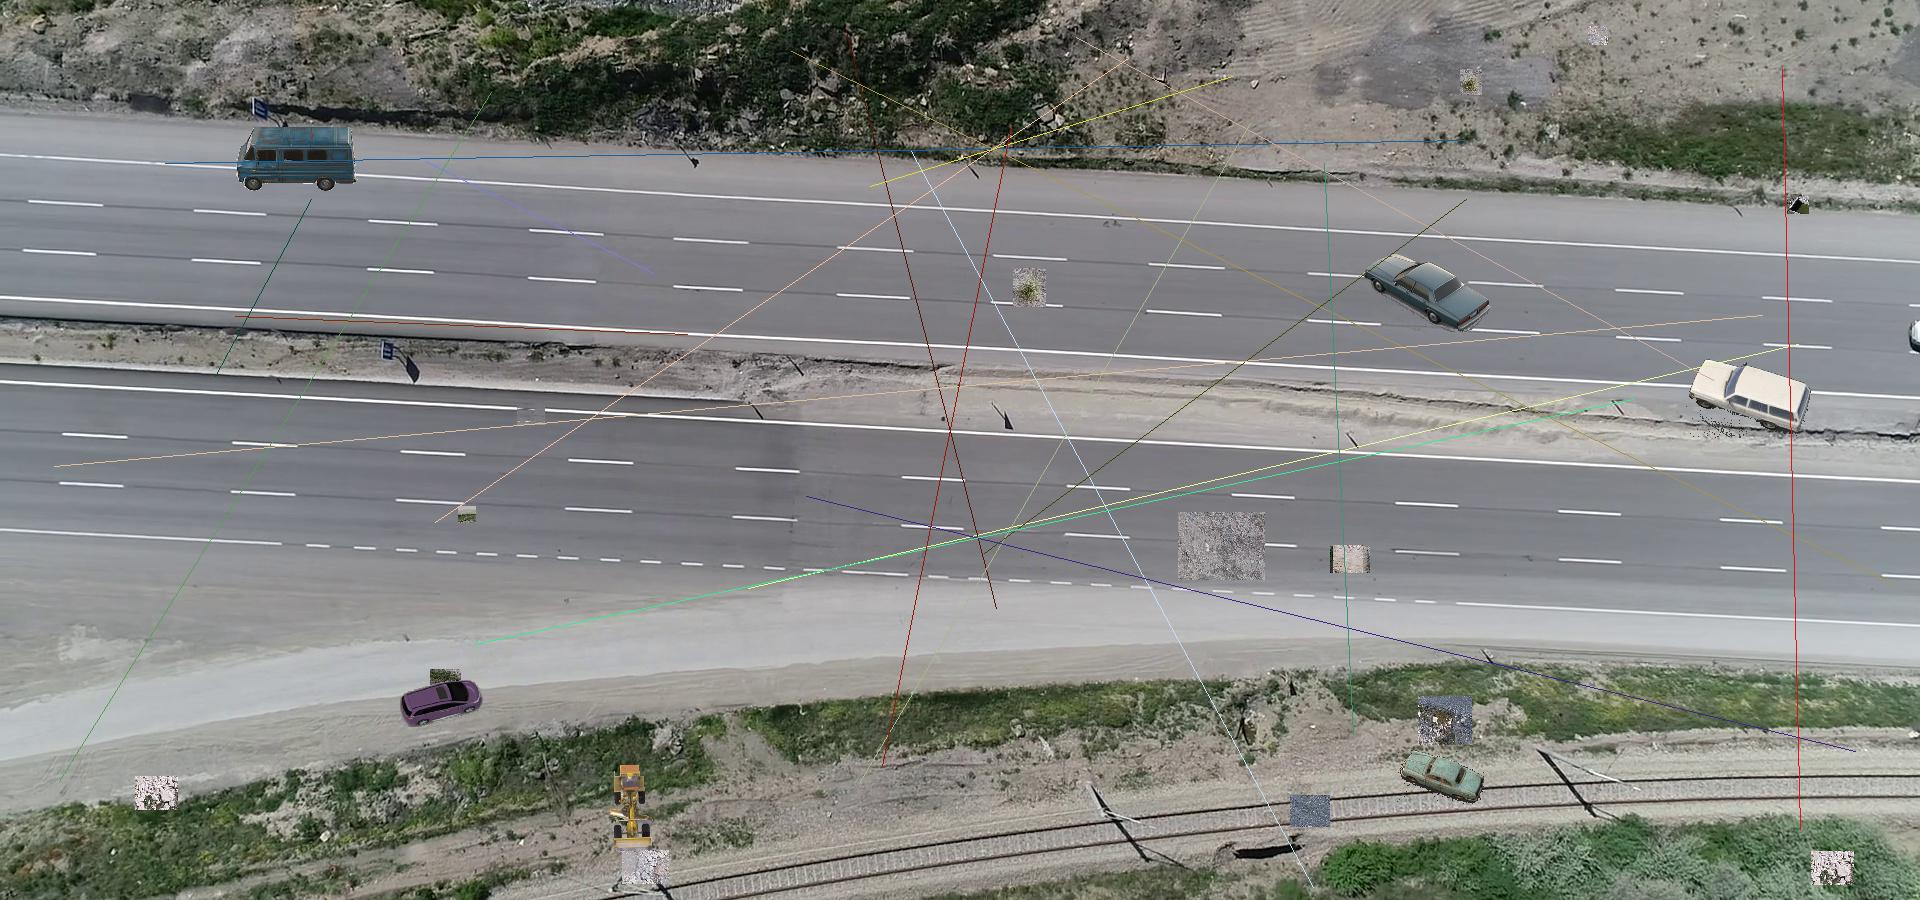arac: (1680, 356, 1811, 438), (1358, 252, 1491, 332), (235, 127, 358, 191), (1396, 747, 1487, 804), (607, 764, 656, 853), (397, 680, 485, 727)
